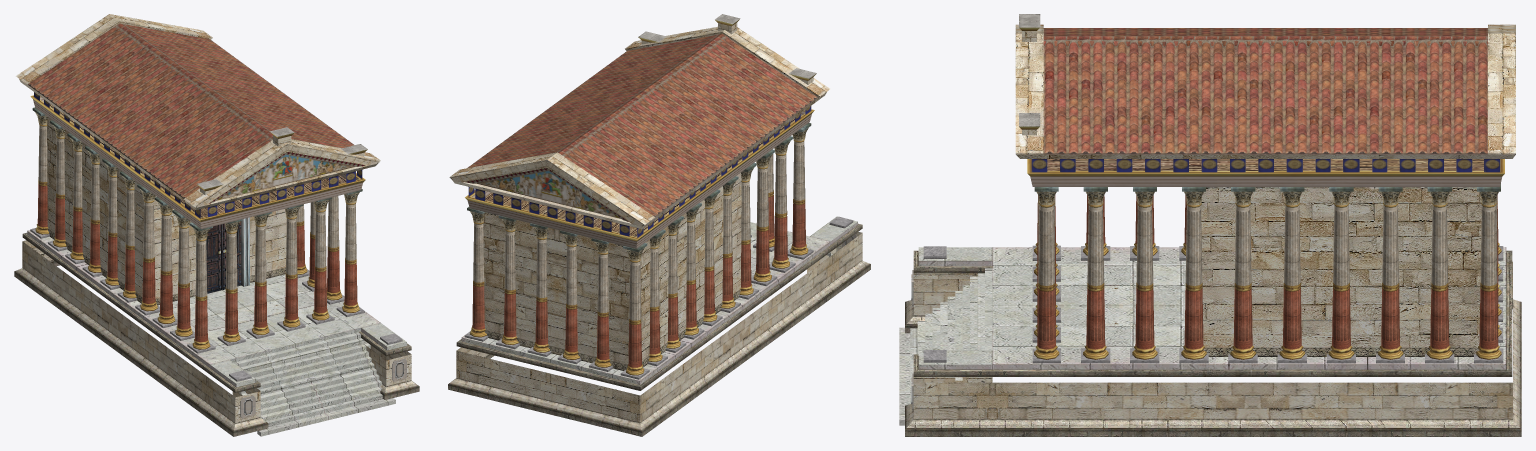
The model's file is rome_temple_big.dae.
3 renders of one model, left to right at view 1: azimuth 30°, elevation 25°; view 2: azimuth 150°, elevation 25°; view 3: azimuth 270°, elevation 25°, orthographic. The views are drawn at different scales.
Visible parts, largest first — view 1: rome_temple_big; view 2: rome_temple_big; view 3: rome_temple_big.
Boxes of the visible parts, x1,y1,x2,y2 form: rome_temple_big: (14,14,419,436); rome_temple_big: (448,14,870,436); rome_temple_big: (899,14,1521,436).
Size of the model in its own units: 19.46 by 25.21 by 39.74.
